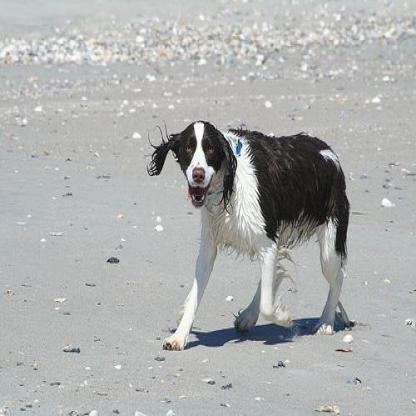English_springer: (144, 118, 351, 352)
